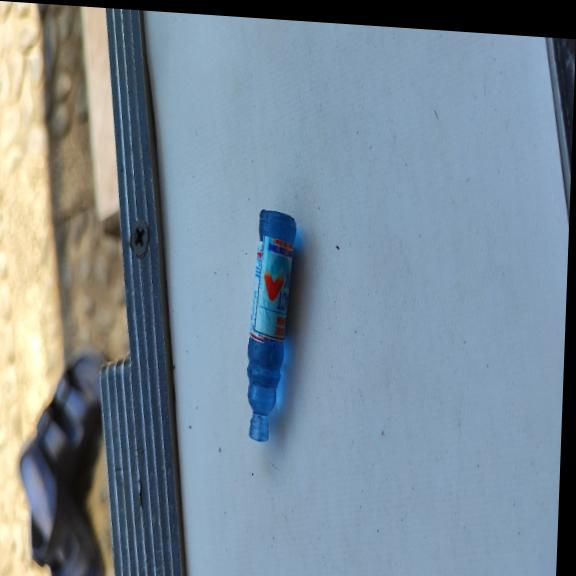Plastik: (243, 205, 298, 442)
